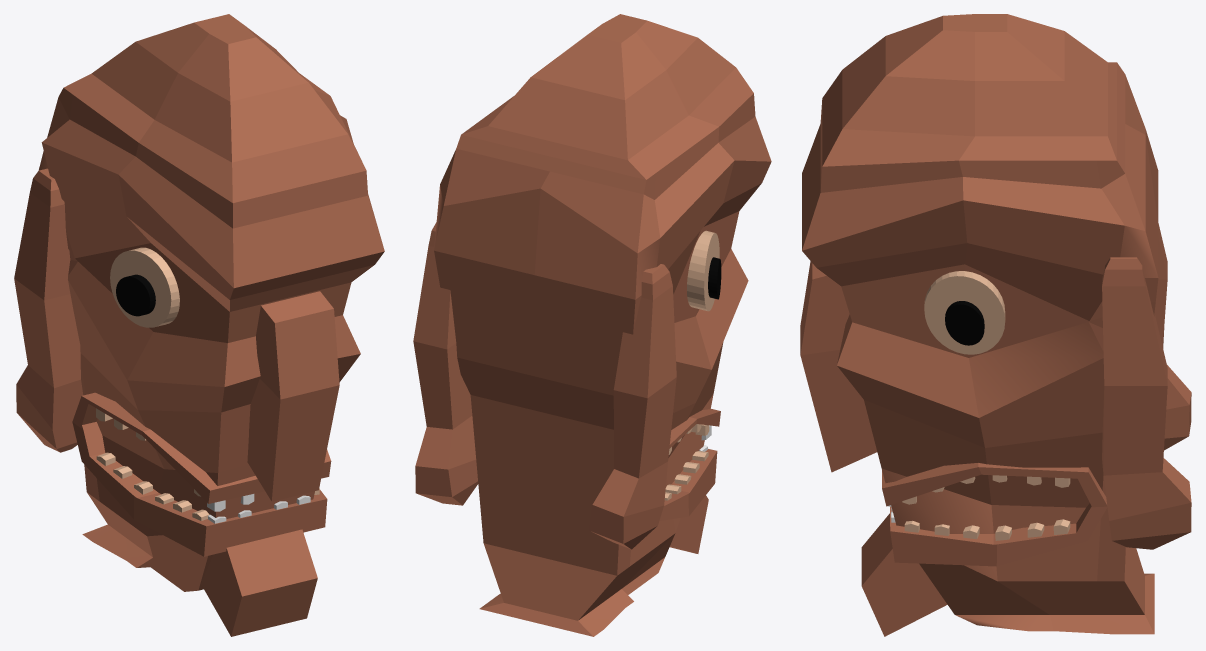
Rendered from AkuAkuhead.fbx.
The picture shows the model from 3 angles, left to right: view 1: azimuth 30°, elevation 25°; view 2: azimuth 150°, elevation 25°; view 3: azimuth 270°, elevation 25°; orthographic projection. The views are drawn at different scales.
Visible parts, largest first — view 1: Cube.032, Cube.029, Cube.028, Cube.030, Cube.031, Cylinder.003, Cube.012, Cylinder.002; view 2: Cube.032, Cube.028, Cube.030, Cylinder.003, Cube.031, Cube.012, Cylinder.002; view 3: Cube.032, Cube.028, Cube.030, Cube.029, Cube.031, Cylinder.003, Cube.012, Cylinder.002.
Boxes of the visible parts, left/top/right/bottom form: Cube.032: left=38, top=14, right=384, bottom=591; Cube.029: left=247, top=291, right=339, bottom=501; Cube.028: left=14, top=168, right=83, bottom=452; Cube.030: left=72, top=392, right=331, bottom=556; Cube.031: left=201, top=529, right=317, bottom=636; Cylinder.003: left=110, top=247, right=179, bottom=327; Cube.012: left=96, top=408, right=319, bottom=520; Cylinder.002: left=116, top=274, right=155, bottom=316; Cube.032: left=434, top=14, right=771, bottom=636; Cube.028: left=413, top=222, right=676, bottom=549; Cube.030: left=659, top=409, right=720, bottom=520; Cylinder.003: left=687, top=230, right=719, bottom=311; Cube.031: left=670, top=495, right=708, bottom=553; Cube.012: left=664, top=424, right=709, bottom=500; Cylinder.002: left=708, top=257, right=721, bottom=299; Cube.032: left=802, top=14, right=1158, bottom=634; Cube.028: left=1102, top=223, right=1191, bottom=549; Cube.030: left=882, top=463, right=1107, bottom=566; Cube.029: left=800, top=261, right=877, bottom=472; Cube.031: left=861, top=513, right=947, bottom=636; Cylinder.003: left=924, top=271, right=1005, bottom=354; Cube.012: left=902, top=475, right=1070, bottom=540; Cylinder.002: left=945, top=301, right=984, bottom=345.
Size of the model in its own units: 57.26 by 128 by 76.14.
